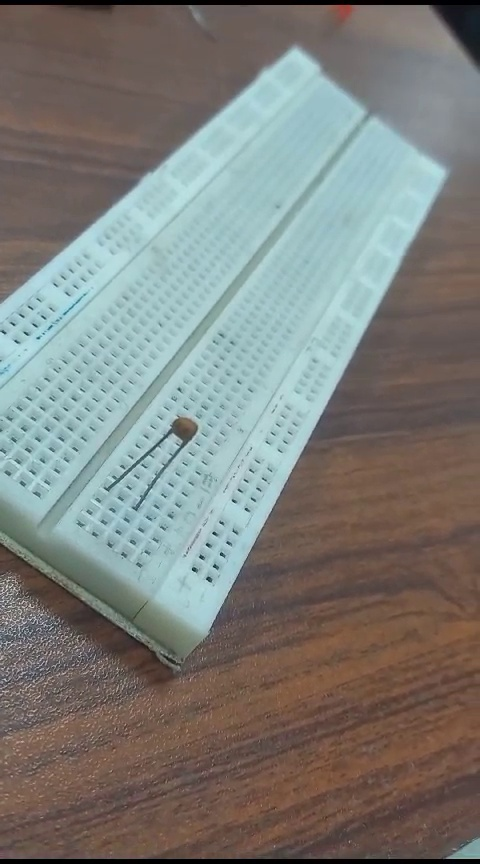ceramic capacitor: (108, 403, 207, 500)
